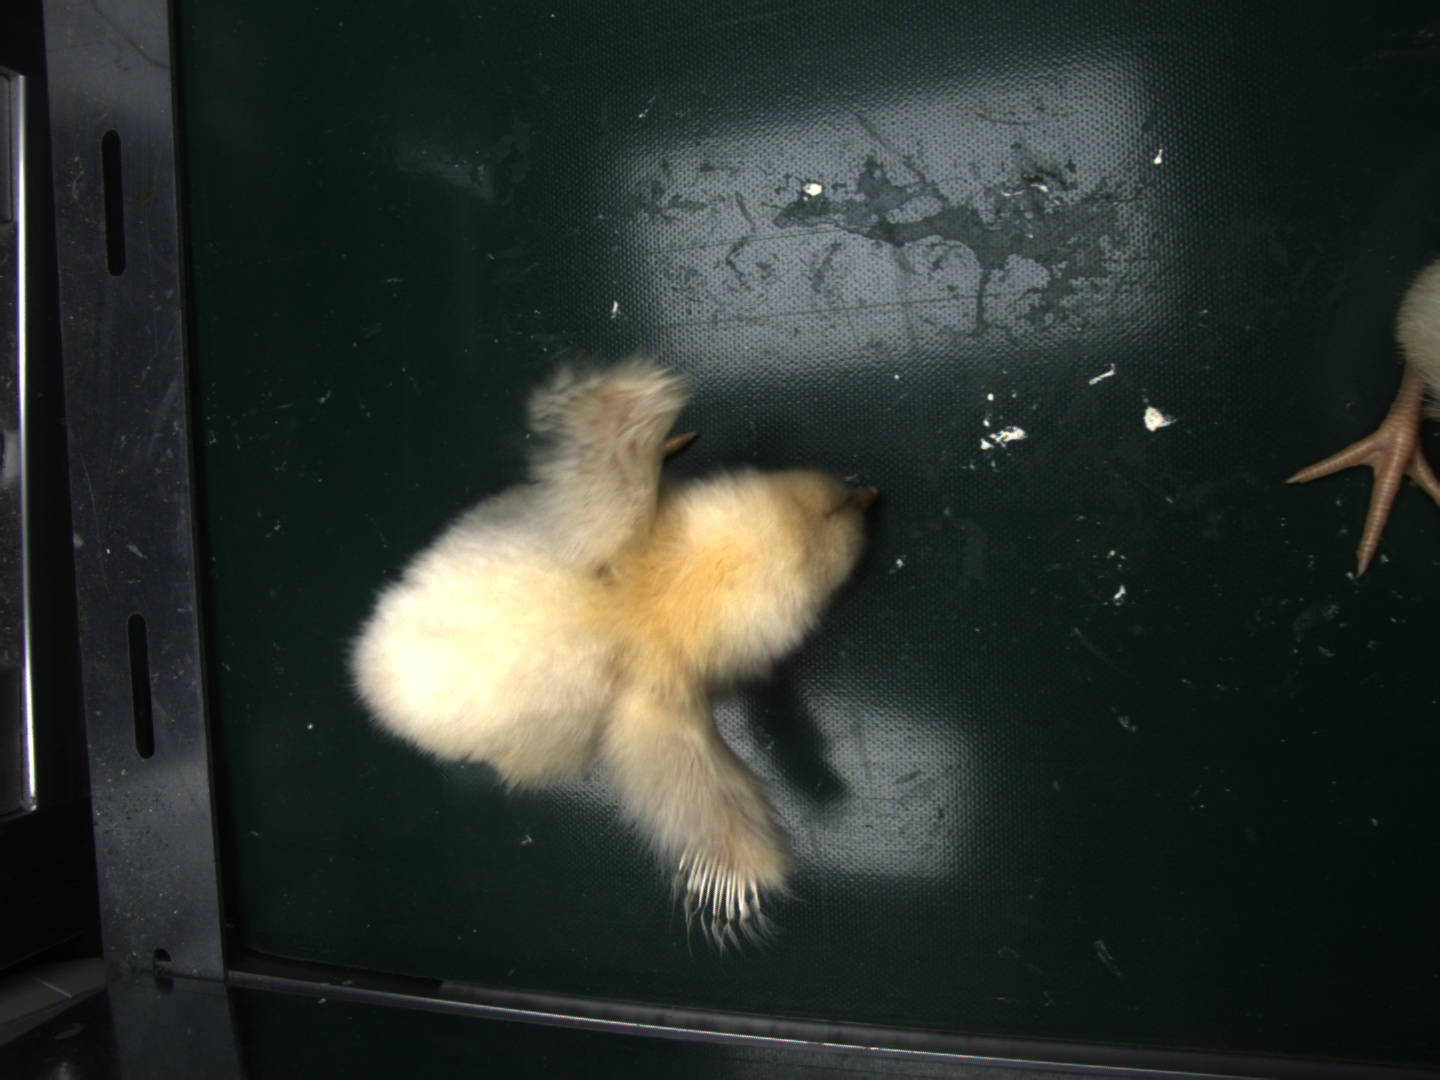male: (681, 847, 762, 920)
